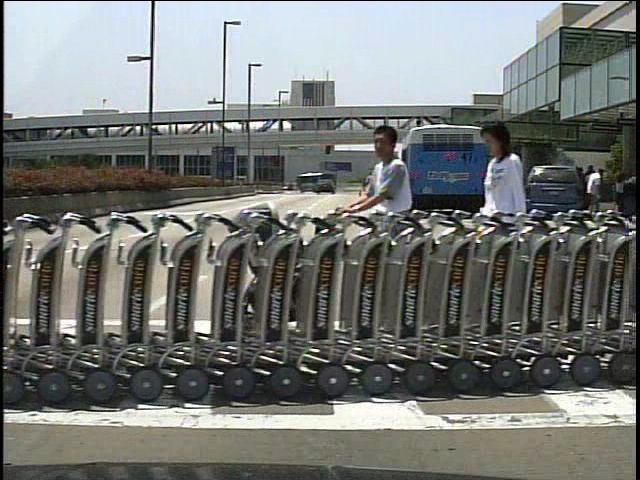person: (334, 119, 433, 364), (477, 115, 536, 327), (587, 165, 606, 215), (582, 163, 599, 216)
